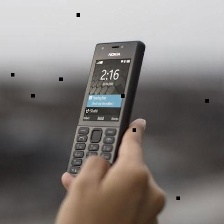phone: (58, 39, 146, 181)
